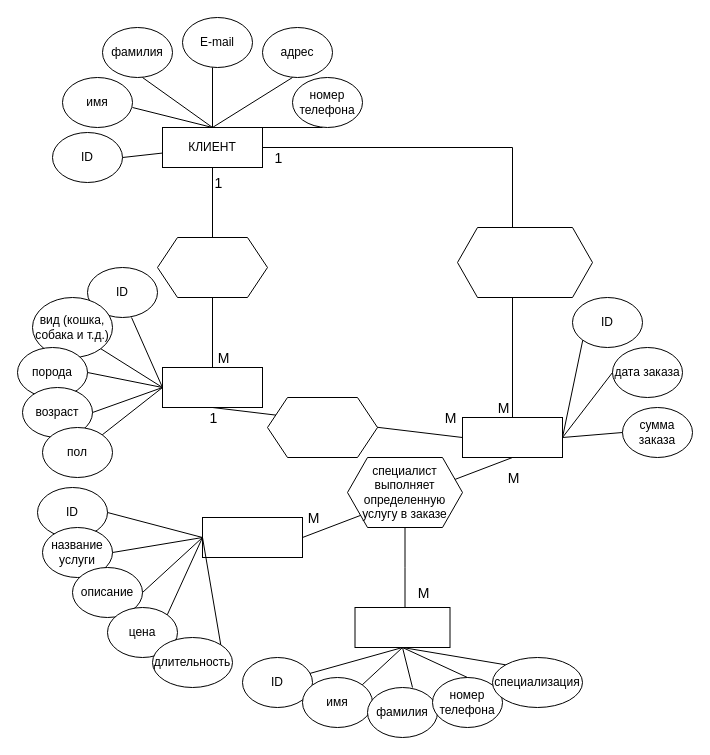
This 710x755 diagram has some shape labels left out. The centre of each missing label's shape, as x and y in pixels:
"ЖИВОТНОЕ" goes at point (212, 387).
"ЗАКАЗ" goes at point (512, 437).
"каждому заказу соответствует один клиент" goes at point (524, 262).
"может иметь несколько животных" goes at point (212, 267).
"создается заказ для одного животного" goes at point (322, 427).
"СОТРУДНИК" goes at point (402, 627).
"УСЛУГА" goes at point (252, 537).
